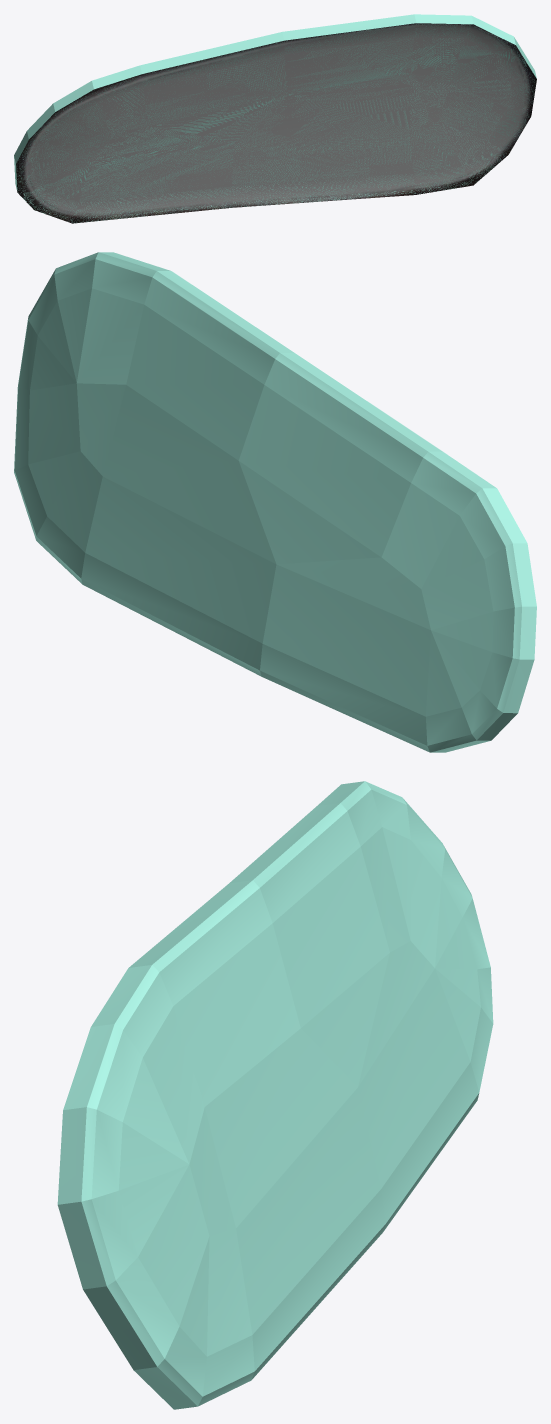
The model's file is SampleCar_01_Front_R.fbx.
3 views of the same model, one above another, from view 1: azimuth 30°, elevation 25°; view 2: azimuth 150°, elevation 25°; view 3: azimuth 270°, elevation 25° (orthographic). The views are drawn at different scales.
Parts seen in each view (by area): view 1: glass_001_LOD0, UTM_glass_001; view 2: UTM_glass_001; view 3: UTM_glass_001.
Boxes of the visible parts, x1,y1,x2,y2 form: glass_001_LOD0: (16,23,536,223); UTM_glass_001: (14,14,536,222); UTM_glass_001: (14,252,536,752); UTM_glass_001: (57,781,493,1409).
Size of the model in its own units: 32.78 by 14.59 by 14.45.
